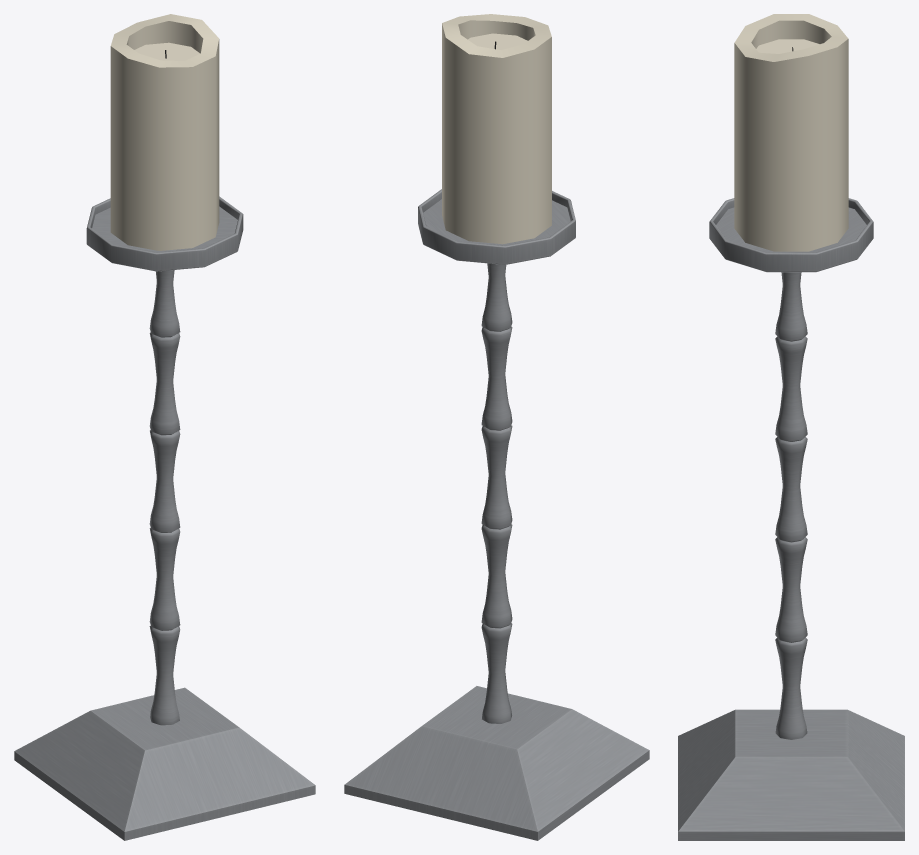
The model's file is candle_01.fbx.
3 renders of one model, left to right at view 1: azimuth 30°, elevation 25°; view 2: azimuth 150°, elevation 25°; view 3: azimuth 270°, elevation 25°, orthographic. The views are drawn at different scales.
Parts seen in each view (by area): view 1: candle 01; view 2: candle 01; view 3: candle 01.
Boxes of the visible parts, x1,y1,x2,y2 form: candle 01: (14, 14, 315, 840); candle 01: (344, 14, 649, 840); candle 01: (678, 14, 904, 840).
Size of the model in its own units: 15.44 by 57.08 by 15.44.
